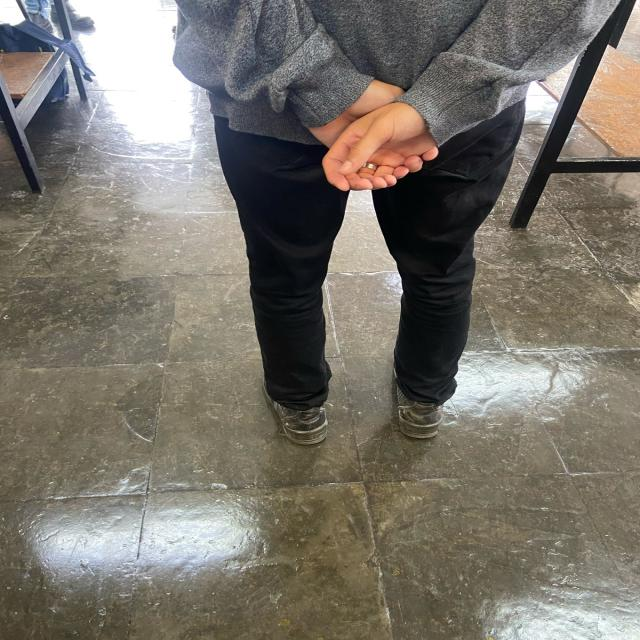BOTA: (388, 353, 451, 444), (266, 367, 333, 450)
SEM LUVA: (322, 98, 442, 192), (298, 73, 412, 155)
